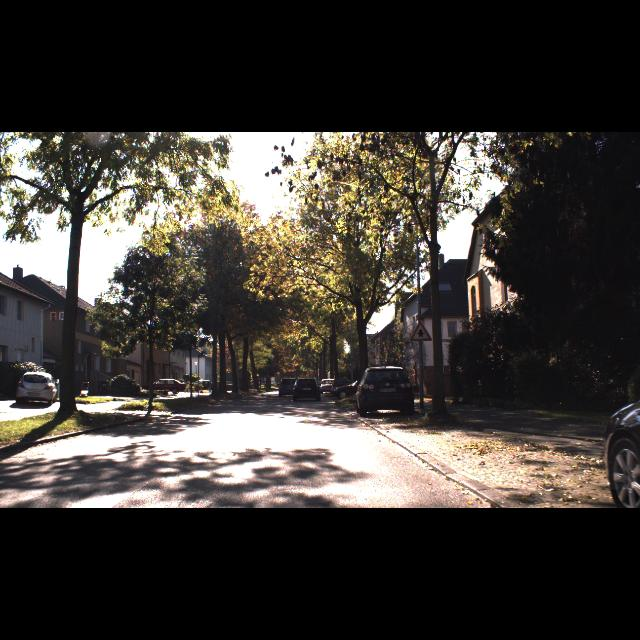danger: (410, 321, 432, 342)
